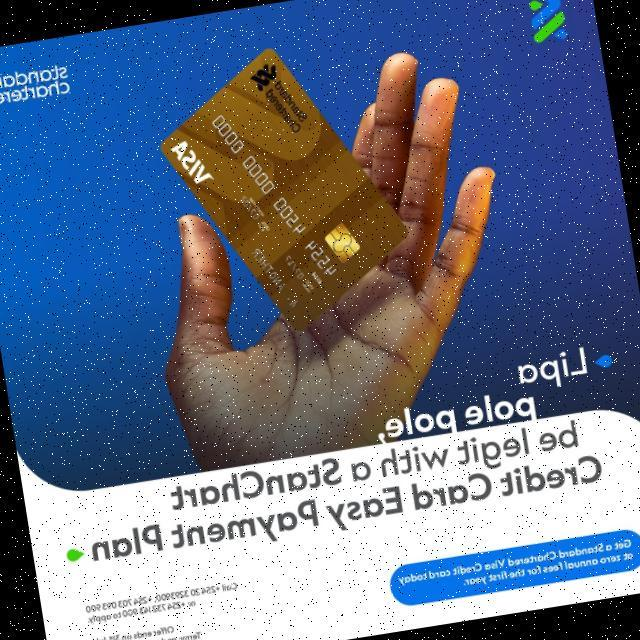Standard Chartered: (249, 58, 311, 138), (0, 62, 71, 108), (525, 0, 569, 44)
